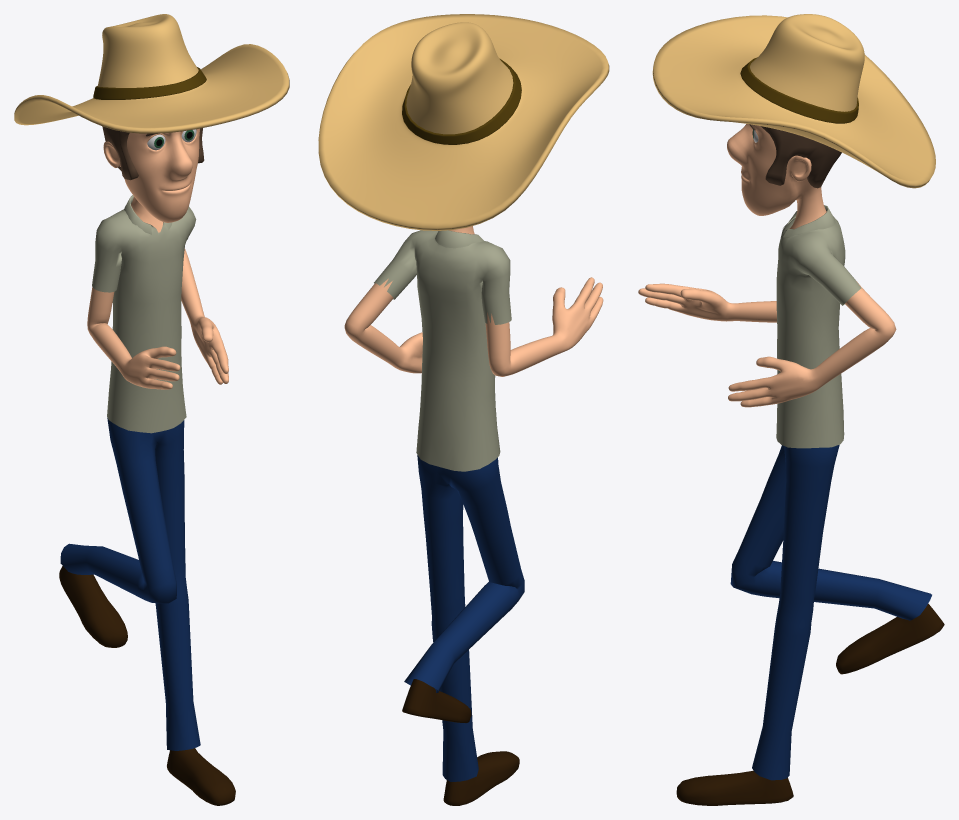
File: GuyRun9.obj
3 views of the same model, side by side, from view 1: azimuth 30°, elevation 25°; view 2: azimuth 150°, elevation 25°; view 3: azimuth 270°, elevation 25° (orthographic). The views are drawn at different scales.
Size of the model in its own units: 2.18 by 7.28 by 2.63.
